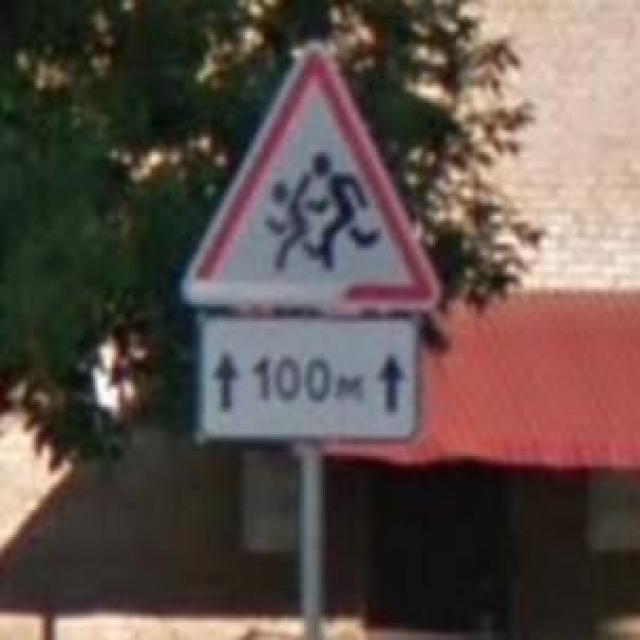Dzieci: (178, 40, 444, 312)
